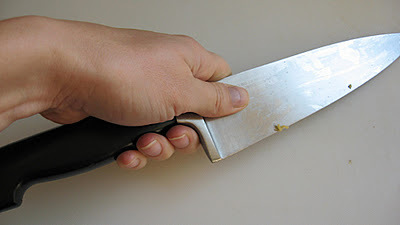knife: (150, 24, 400, 183)
